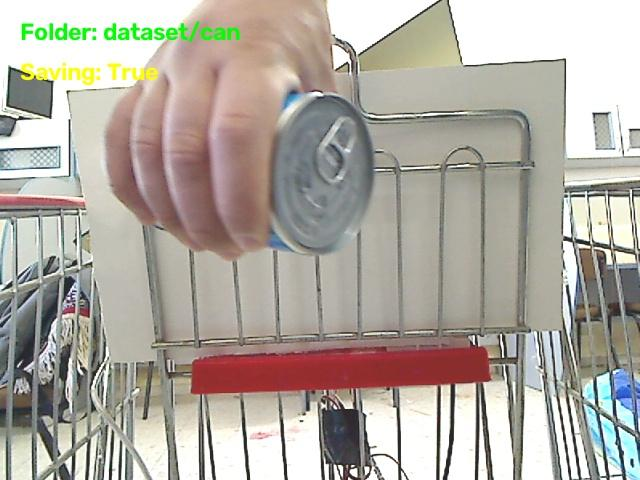can: (269, 92, 373, 254)
